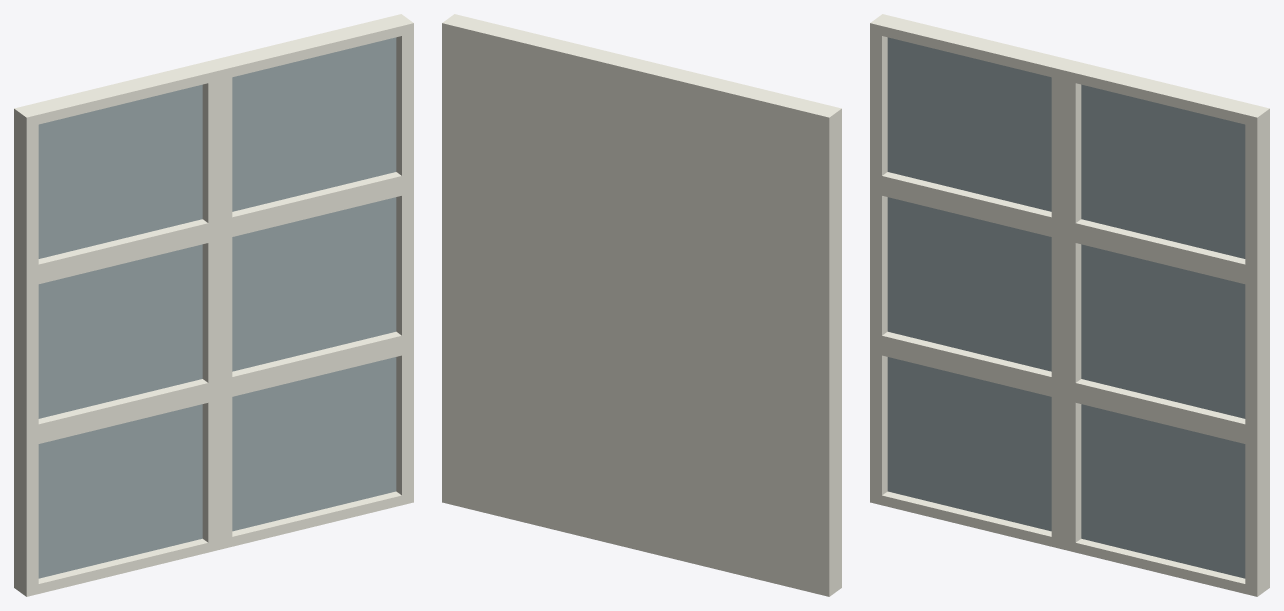
Rendered from fbx_school_outdoor_window2.fbx.
The picture shows the model from 3 angles, left to right: view 1: azimuth 30°, elevation 25°; view 2: azimuth 150°, elevation 25°; view 3: azimuth 330°, elevation 25°; orthographic projection.
Parts seen in each view (by area): view 1: fbx_school_outdoor_window2; view 2: fbx_school_outdoor_window2; view 3: fbx_school_outdoor_window2.
Boxes of the visible parts, bbox=[...] form: fbx_school_outdoor_window2: bbox=[14, 14, 413, 596]; fbx_school_outdoor_window2: bbox=[442, 14, 841, 596]; fbx_school_outdoor_window2: bbox=[870, 14, 1269, 596].
Size of the model in its own units: 1.41 by 1.67 by 0.0788.
1 material, 1 textured.
